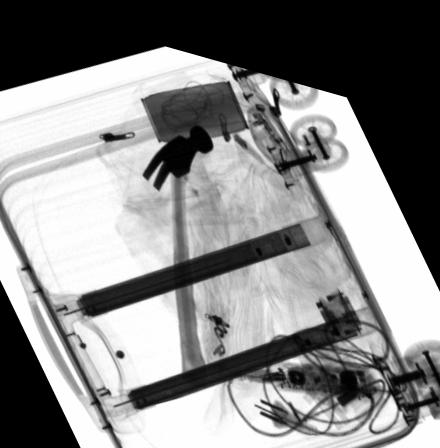Hammer: (140, 111, 213, 376)
